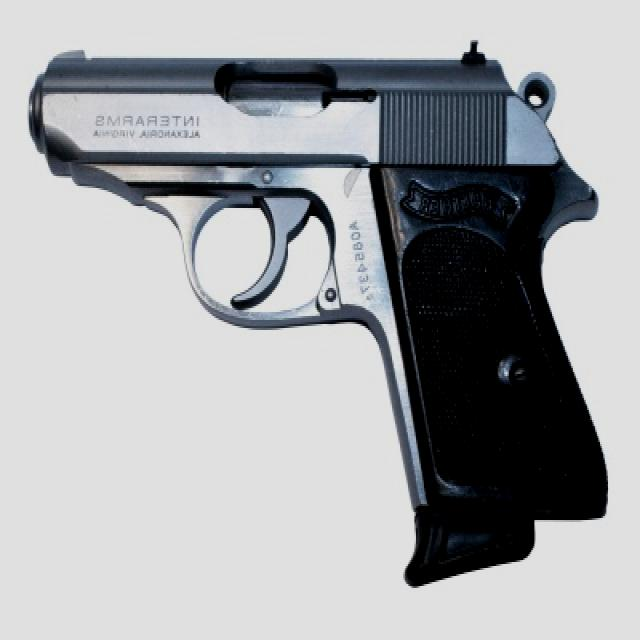pistol: (22, 44, 614, 584)
